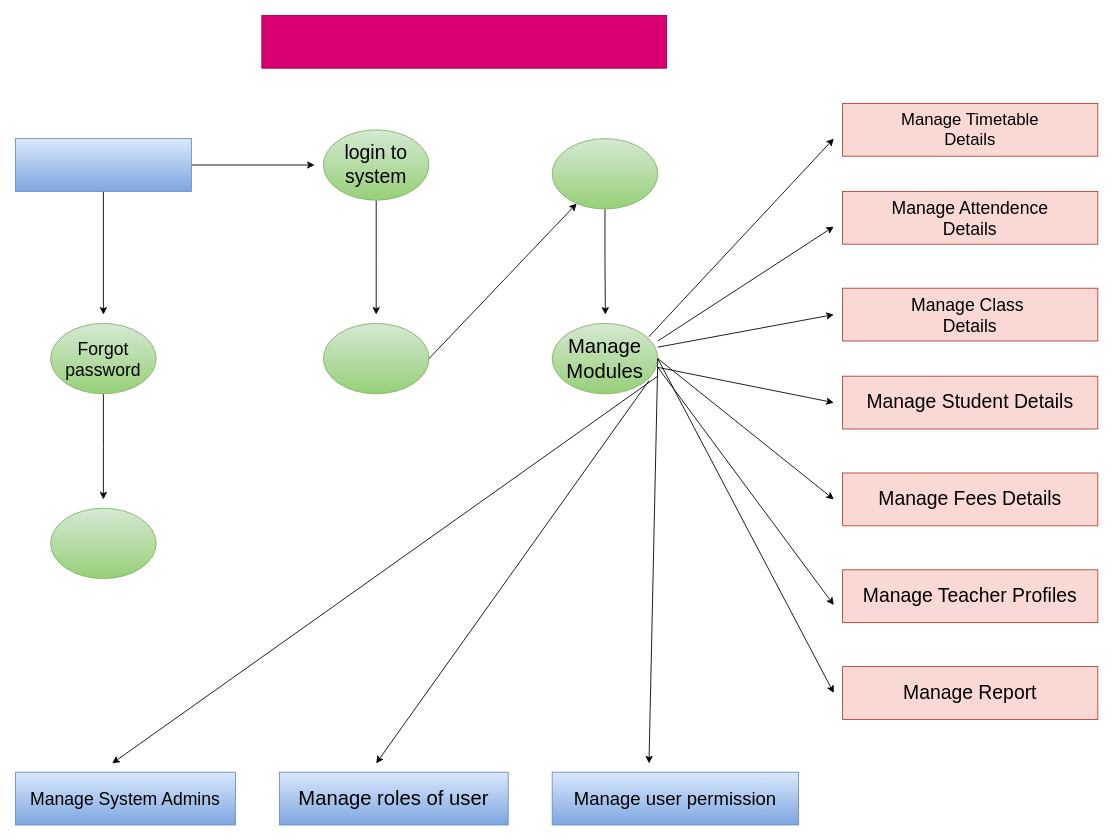
The diagram is 1113 pixels wide and 840 high, and some of its shapes have lost their labels. Here are the shapes that lost their labels. From the top down, the centre of each, then its label:
At (464,41): "System Information System".
At (103,164): "Admin".
At (604,173): "Check roles of access".
At (376,358): "Check Credentials".
At (103,543): "Send email toUser".
